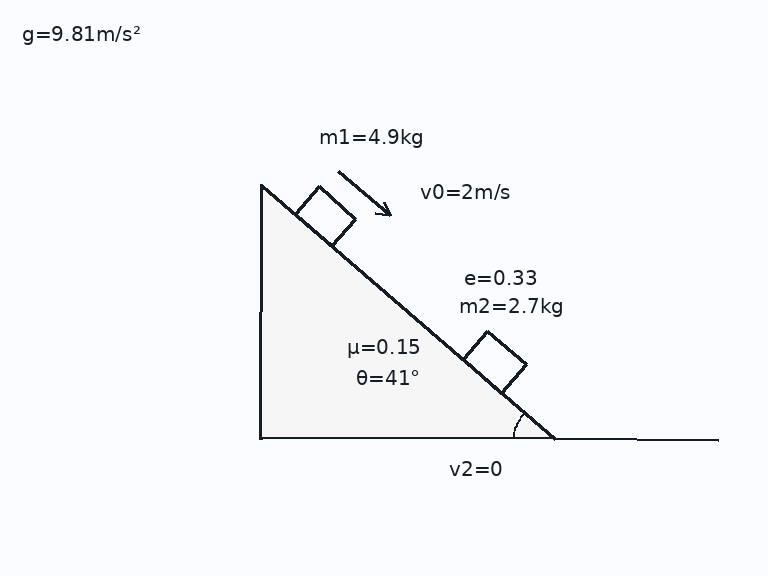block: (460, 329, 527, 395), (293, 185, 357, 248)
ramp: (259, 182, 556, 441)
